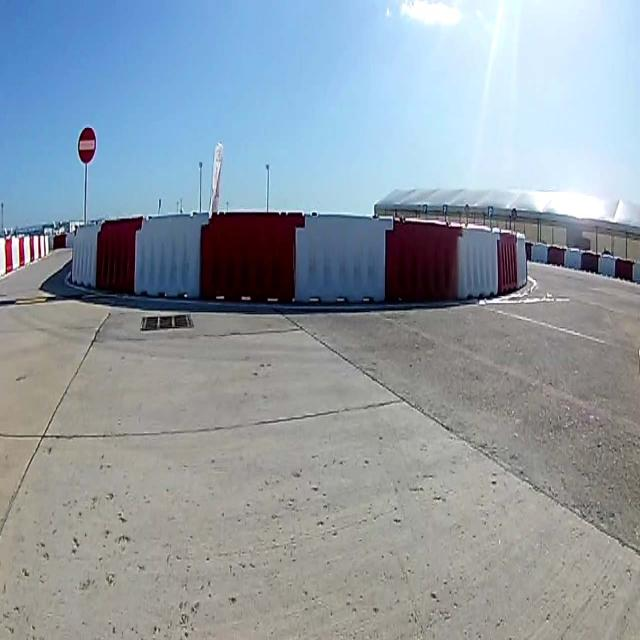girisyok: (78, 127, 96, 164)
